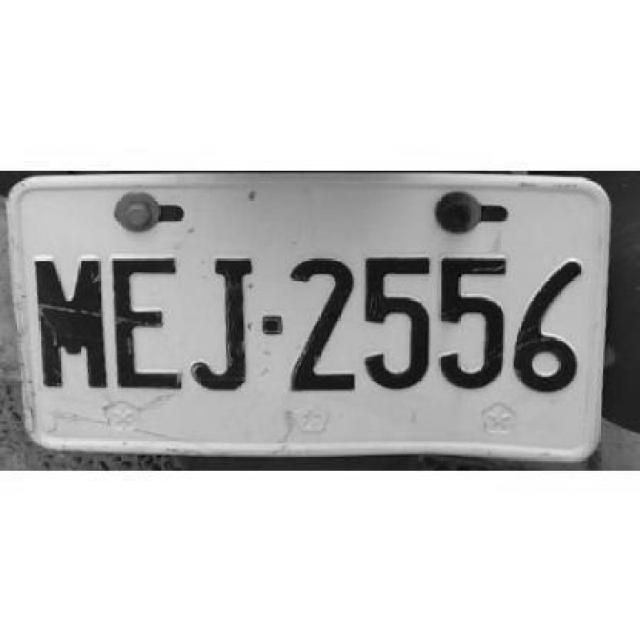-: (260, 308, 283, 337)
2: (285, 247, 357, 398)
5: (358, 246, 434, 394), (434, 250, 508, 392)
6: (509, 250, 585, 398)
E: (106, 246, 185, 391)
J: (184, 248, 256, 394)
M: (29, 248, 111, 389)
